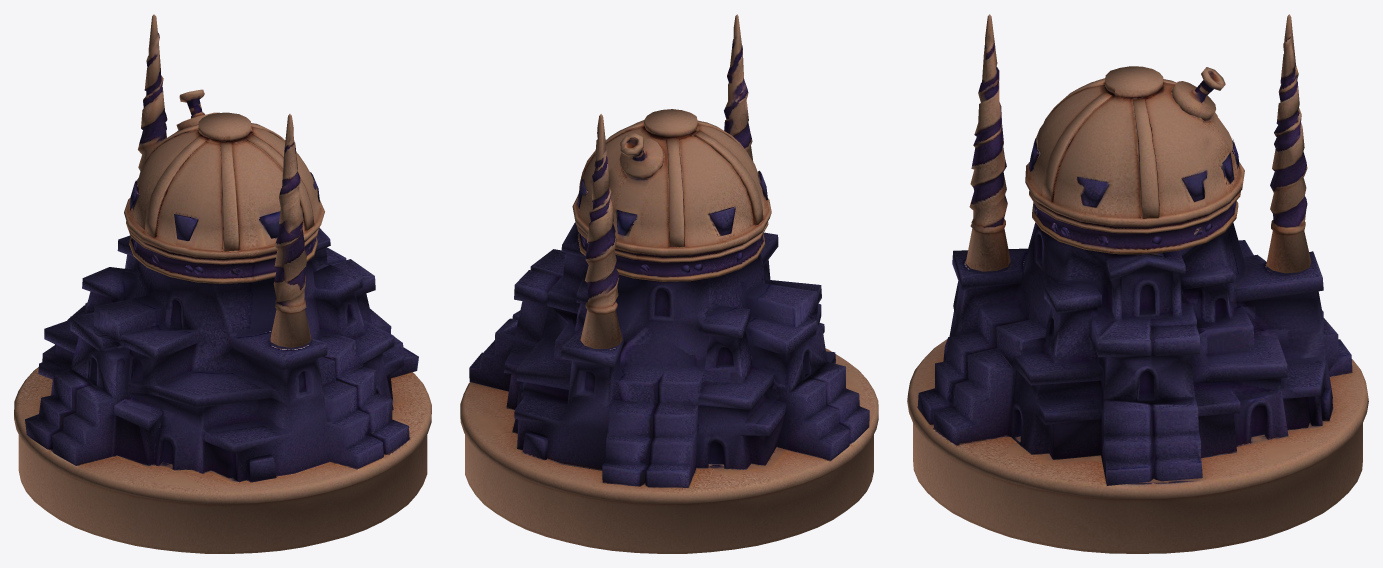
The model's file is tripo_convert_ed01b67b-7f9d-4569-9b8b-6ffedbdf0c48.fbx.
3 views of the same model, side by side, from view 1: azimuth 30°, elevation 25°; view 2: azimuth 150°, elevation 25°; view 3: azimuth 270°, elevation 25° (orthographic). The views are drawn at different scales.
Parts seen in each view (by area): view 1: tripo_node_ed01b67b; view 2: tripo_node_ed01b67b; view 3: tripo_node_ed01b67b.
Boxes of the visible parts, bbox=[...] form: tripo_node_ed01b67b: bbox=[14, 14, 431, 553]; tripo_node_ed01b67b: bbox=[460, 14, 878, 553]; tripo_node_ed01b67b: bbox=[907, 14, 1368, 553].
Size of the model in its own units: 0.9395 by 0.998 by 0.9395.
Materials: 1 (1 with a texture image).
